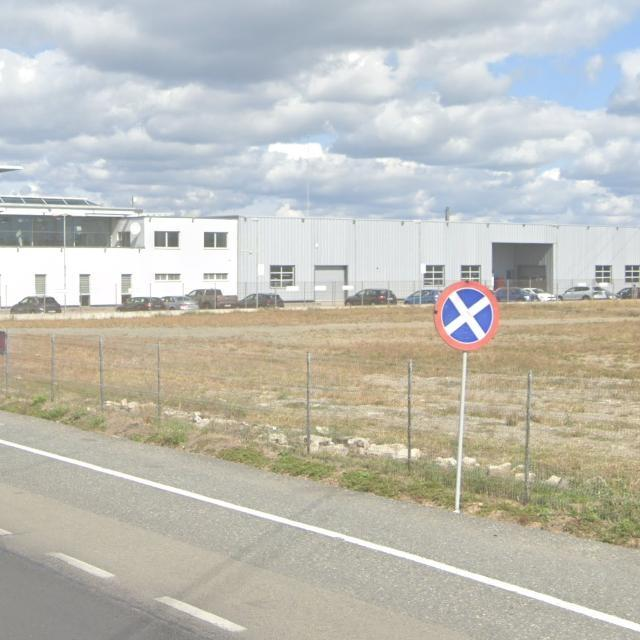forb_waiting: (435, 280, 501, 352)
